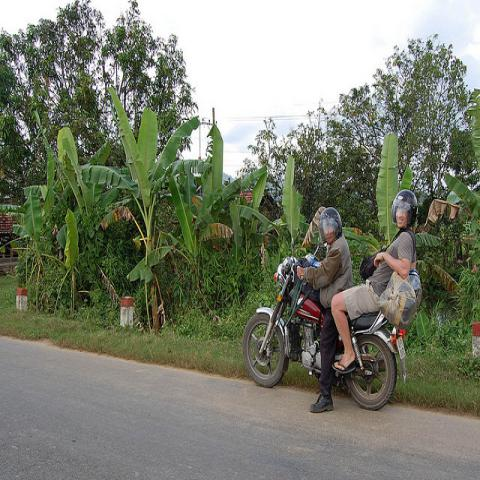motorcycle: (242, 238, 406, 410)
